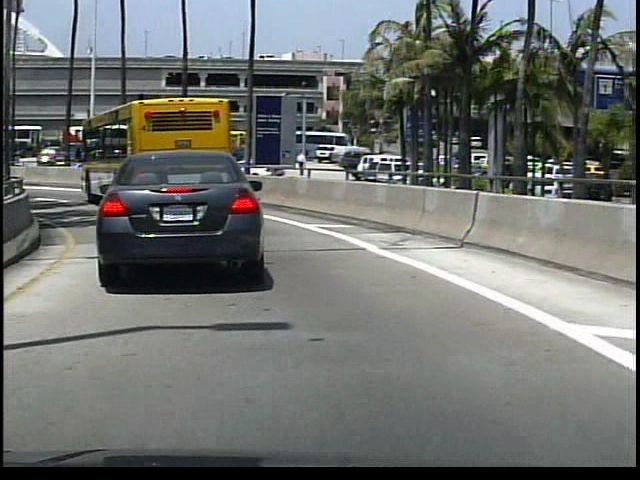person: (292, 148, 306, 178)
